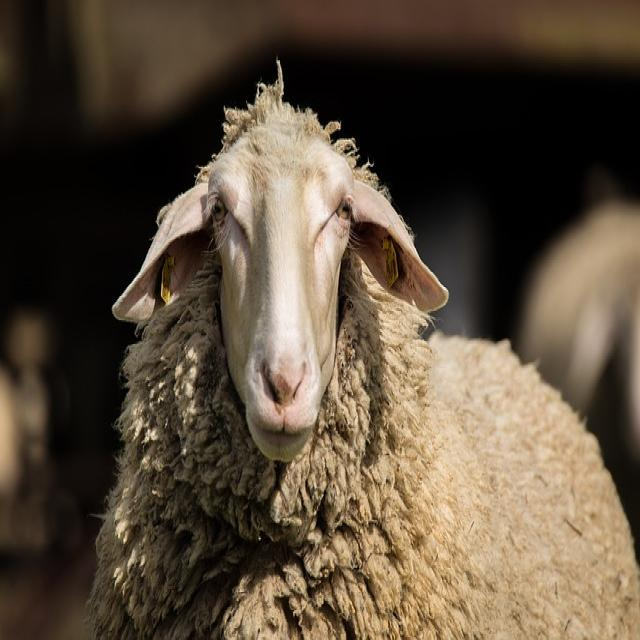goat: (86, 62, 640, 640)
